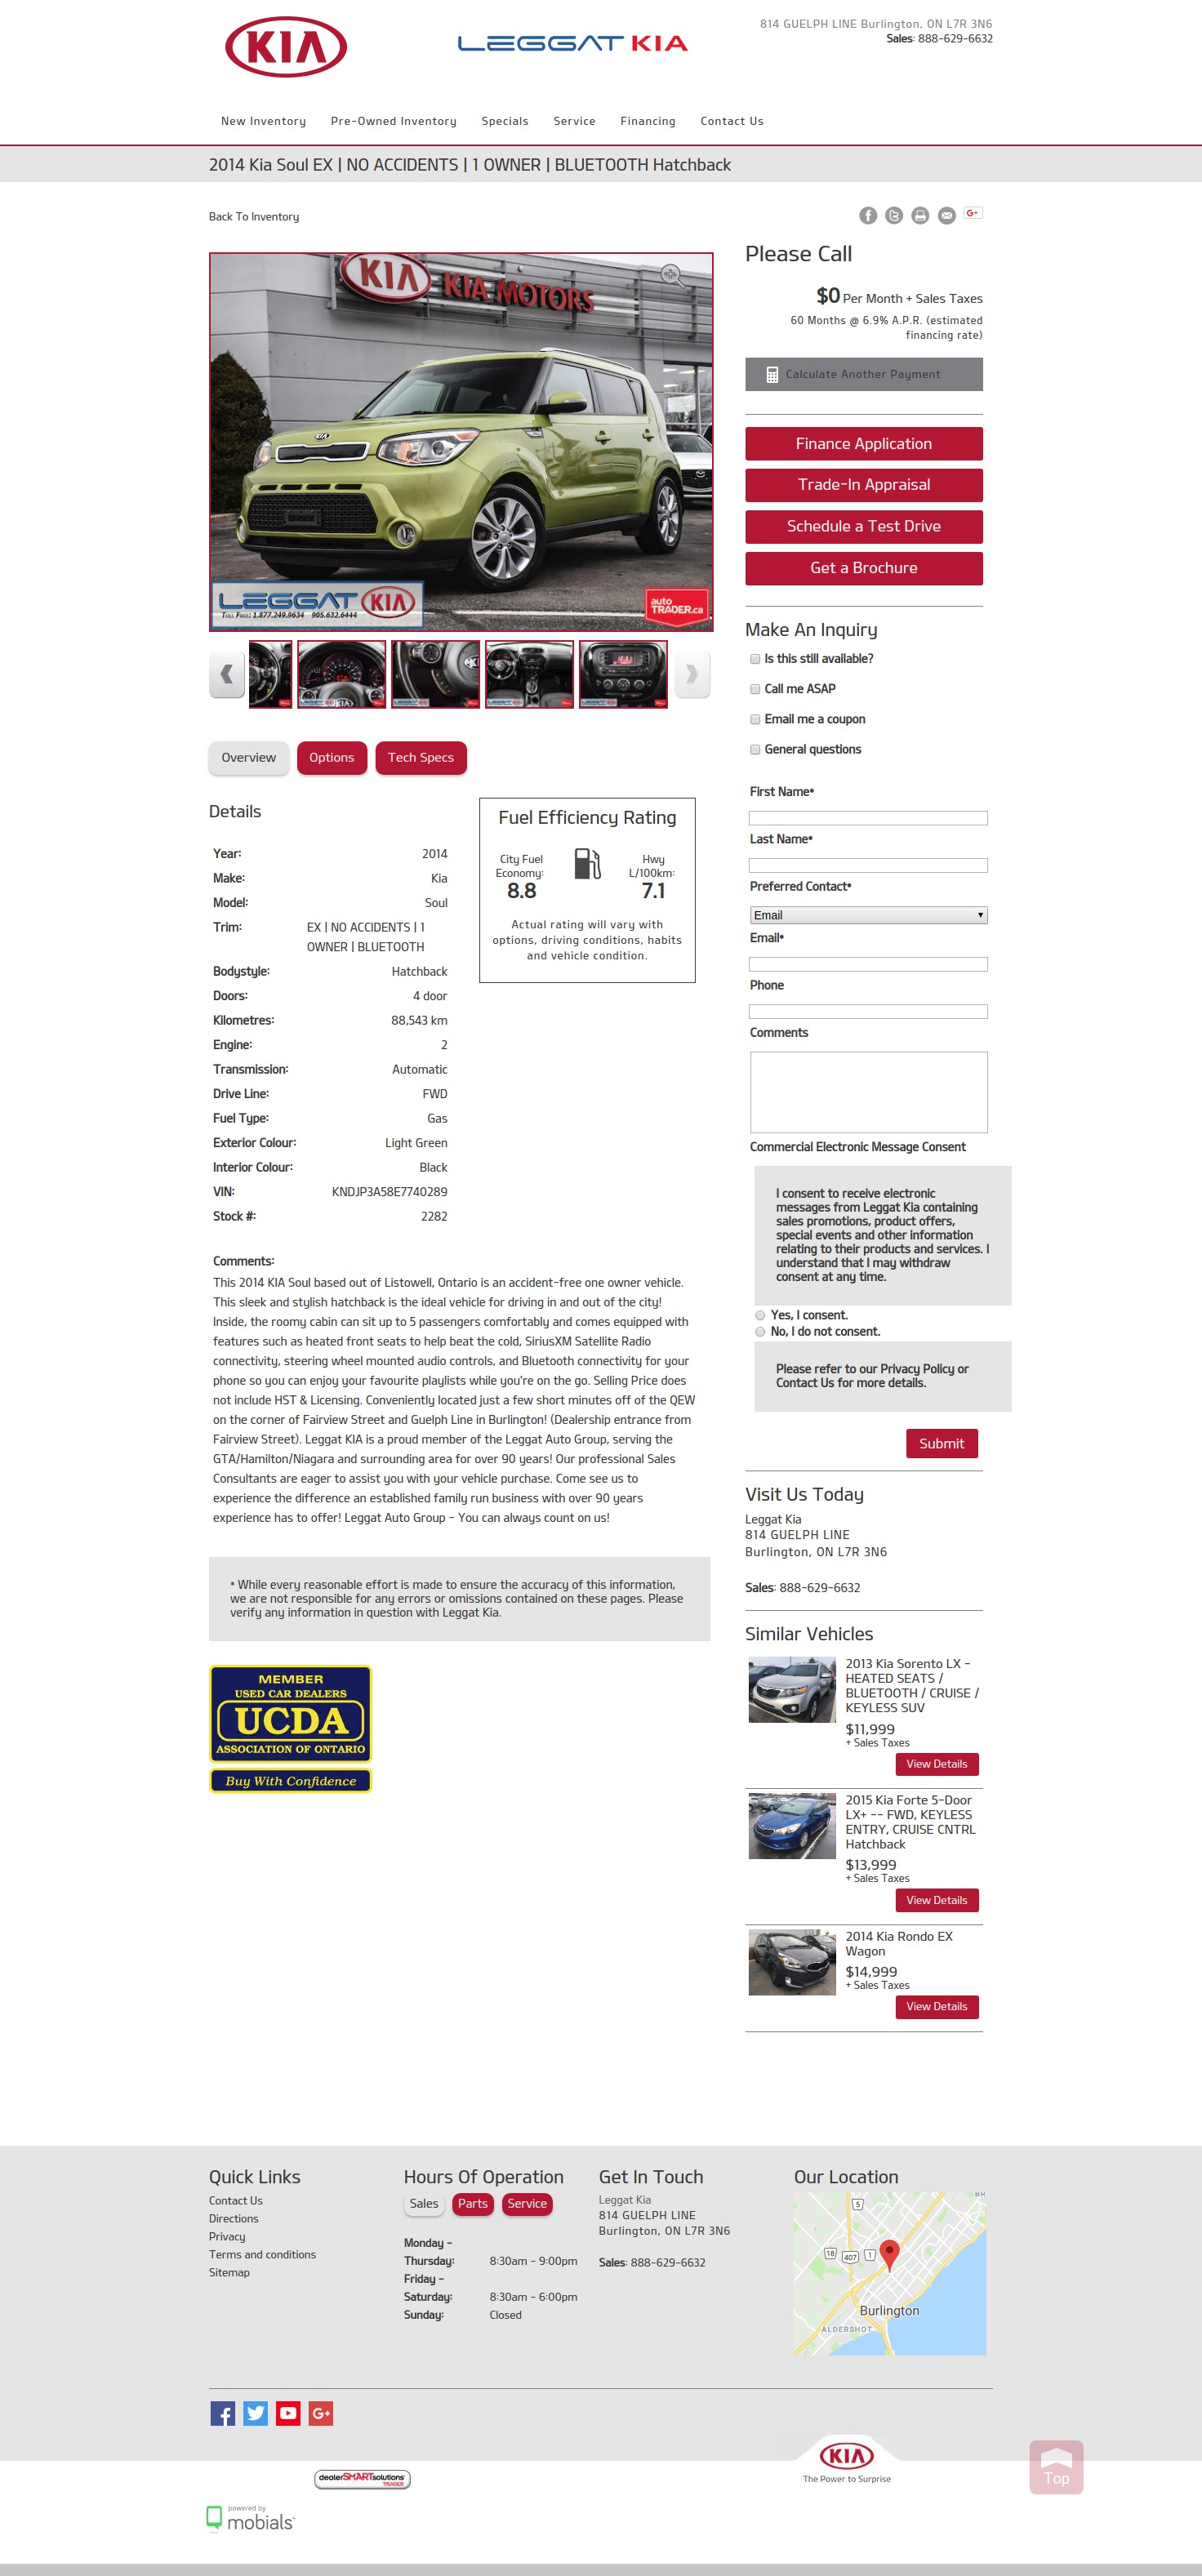car: (673, 649, 713, 700)
